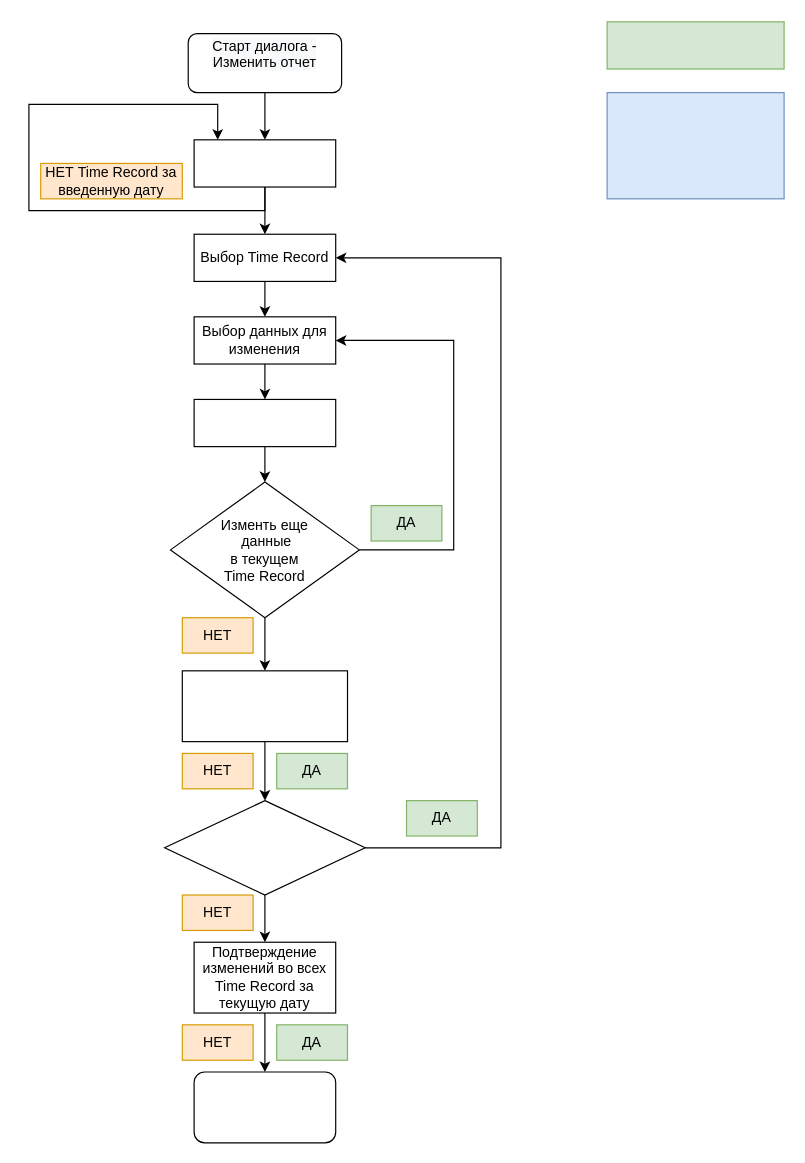
The diagram is 805 pixels wide and 1163 high, and some of its shapes have lost their labels. The shapes that lost their labels are listed below. From the top down, each one's centre as x and y in pixels, then its label:
pixel 695 45: Диалог "Изменить отчет"
pixel 264 163: Ввод даты
pixel 695 145: На каждом шаге есть кнопка "Главное меню"
pixel 264 422: Изменение данных
pixel 264 706: Подтверждение сохраниения измений в текущем Time Record
pixel 264 847: Изменить еще Time Record за текущую дату
pixel 264 1107: Конец диалога
